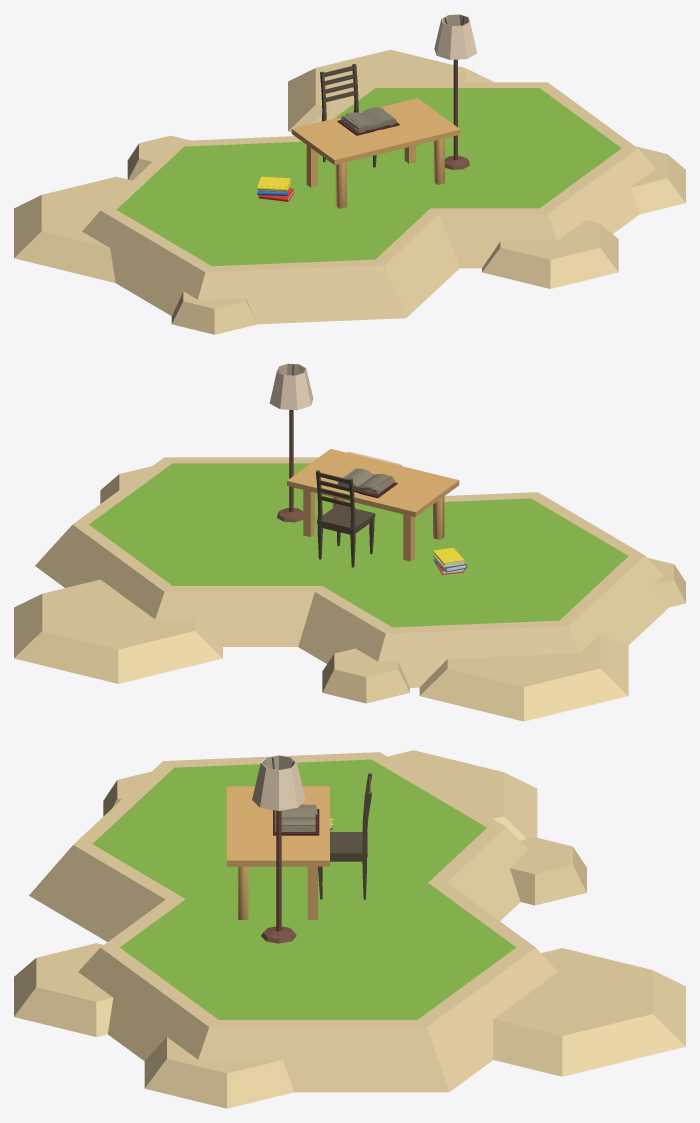
3 renders of one model, top to bottom at view 1: azimuth 30°, elevation 25°; view 2: azimuth 150°, elevation 25°; view 3: azimuth 270°, elevation 25°, orthographic. The views are drawn at different scales.
Visible parts, largest first — view 1: rockFlat, rockFlat.001, table, standing_lamp, chair, tableBook, books; view 2: rockFlat, rockFlat.001, table, chair, standing_lamp, tableBook, books; view 3: rockFlat, rockFlat.001, table, standing_lamp, chair, tableBook.
Boxes of the visible parts, x1,y1,x2,y2 form: rockFlat: (14, 49, 685, 334); rockFlat.001: (116, 88, 621, 266); table: (291, 98, 460, 208); standing_lamp: (434, 14, 476, 169); chair: (320, 63, 376, 167); tableBook: (337, 106, 399, 135); books: (257, 176, 294, 201); rockFlat: (14, 451, 685, 721); rockFlat.001: (89, 463, 628, 627); table: (287, 449, 459, 561); chair: (316, 470, 375, 567); standing_lamp: (269, 363, 313, 522); tableBook: (336, 468, 397, 498); books: (433, 547, 467, 574); rockFlat: (14, 750, 685, 1108); rockFlat.001: (93, 759, 515, 1019); table: (226, 786, 329, 919); standing_lamp: (252, 755, 305, 943); chair: (318, 773, 371, 899); tableBook: (273, 804, 319, 835).
Size of the model in its own units: 5.79 by 1.72 by 4.69.
